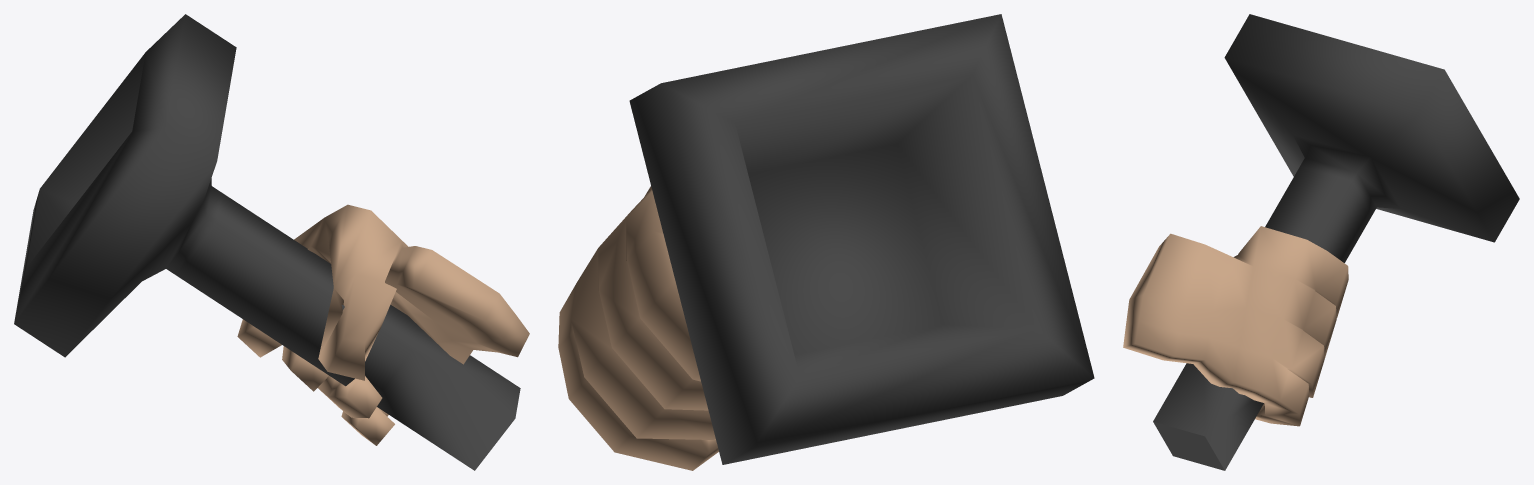
Rendered from character-test.glb.
3 views of the same model, side by side, from view 1: azimuth 30°, elevation 25°; view 2: azimuth 150°, elevation 25°; view 3: azimuth 270°, elevation 25° (orthographic). The views are drawn at different scales.
Parts seen in each view (by area): view 1: Cube.081; view 2: Cube.081; view 3: Cube.081.
Boxes of the visible parts, x1,y1,x2,y2 form: Cube.081: (14,14,529,470); Cube.081: (558,14,1094,470); Cube.081: (1123,14,1519,470).
Bounding box in the file's own units: 1.08 × 0.8835 × 0.9648.
